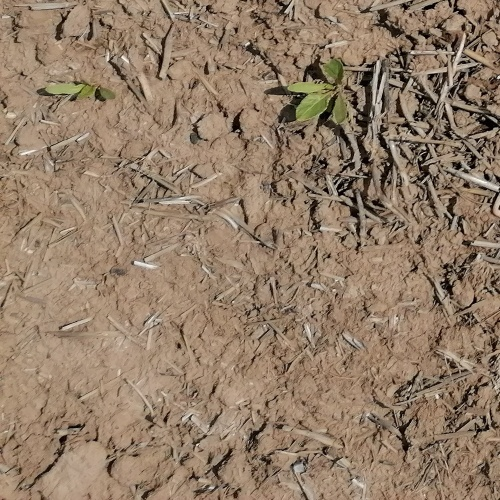beet: (287, 59, 350, 125), (44, 81, 118, 104)
